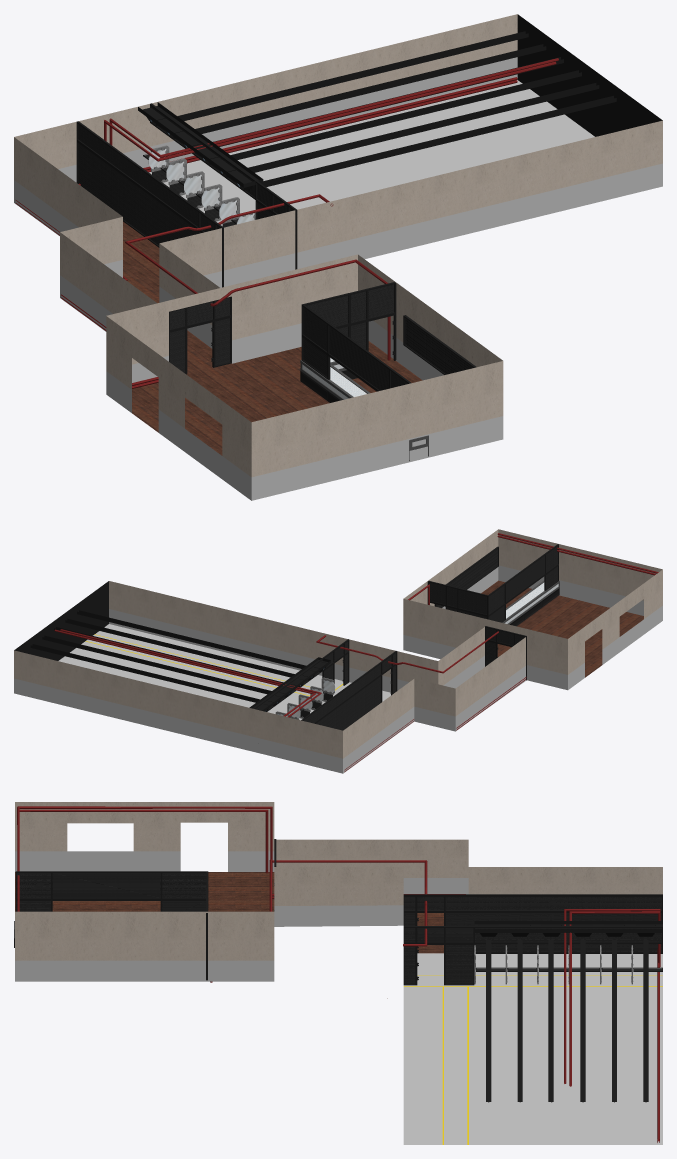
File: Interior.FBX
3 views of the same model, one above another, from view 1: azimuth 30°, elevation 25°; view 2: azimuth 150°, elevation 25°; view 3: azimuth 270°, elevation 25° (orthographic). The views are drawn at different scales.
Visible parts, largest first — view 1: Interior; view 2: Interior; view 3: Interior.
Part boxes in pixels (x1,y1,x2,y2): Interior: (14, 14, 662, 500); Interior: (14, 529, 662, 773); Interior: (14, 802, 662, 1144).
Bounding box in the file's own units: 18.12 × 2.21 × 17.97.
